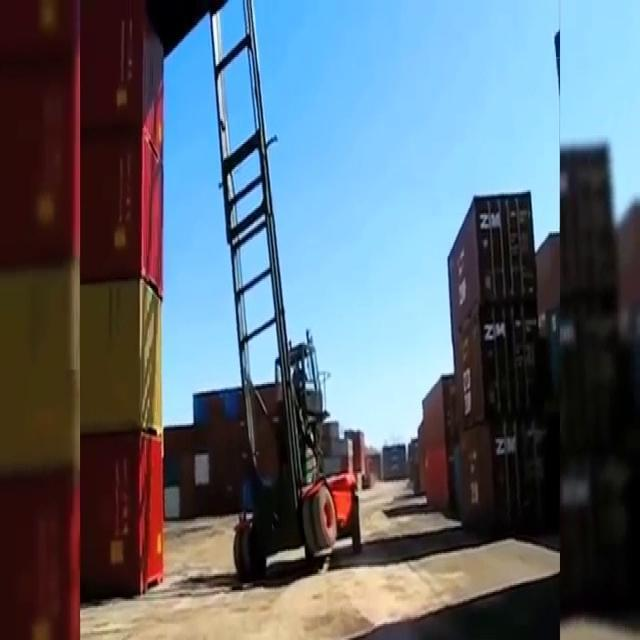forklift: (227, 315, 367, 593)
